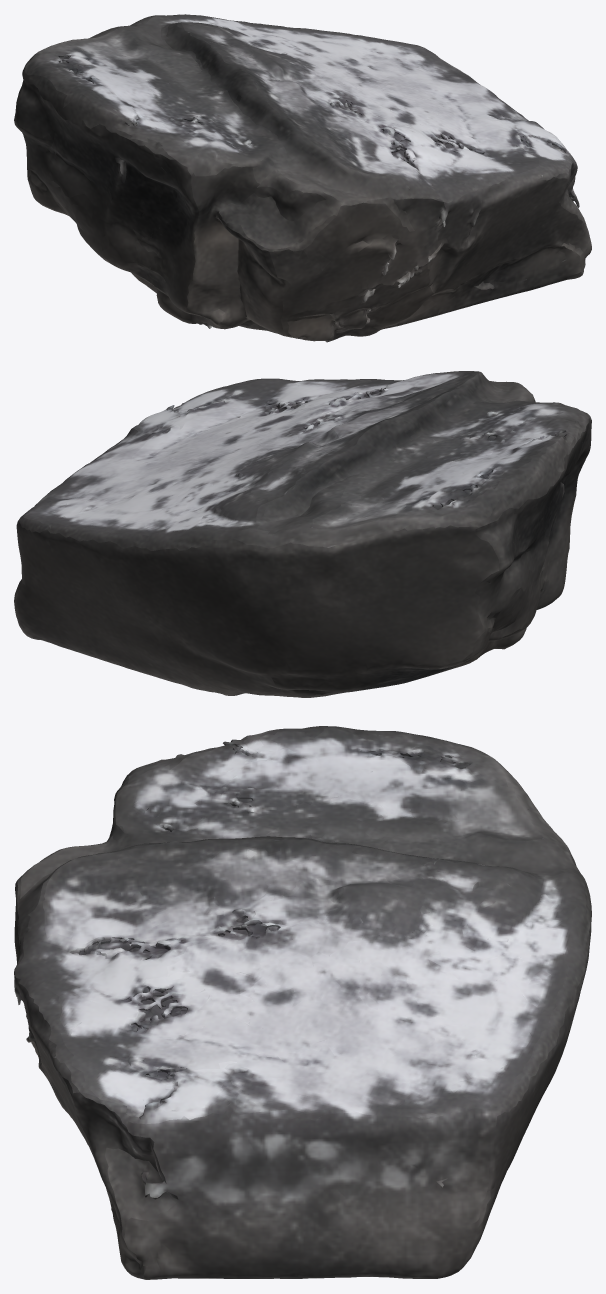
3 renders of one model, top to bottom at view 1: azimuth 30°, elevation 25°; view 2: azimuth 150°, elevation 25°; view 3: azimuth 270°, elevation 25°, orthographic. The views are drawn at different scales.
Parts seen in each view (by area): view 1: world; view 2: world; view 3: world.
Part boxes in pixels (x1,y1,x2,y2): world: [14, 14, 591, 342]; world: [14, 371, 591, 697]; world: [14, 726, 591, 1279].
Bounding box in the file's own units: 0.35 × 0.1713 × 0.3064.
Materials: 1 (1 with a texture image).
